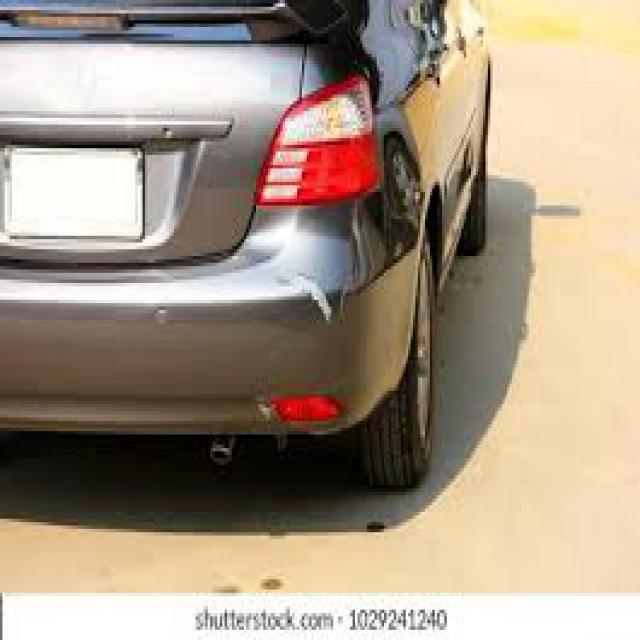rear-bumper-dent: (186, 179, 435, 452)
